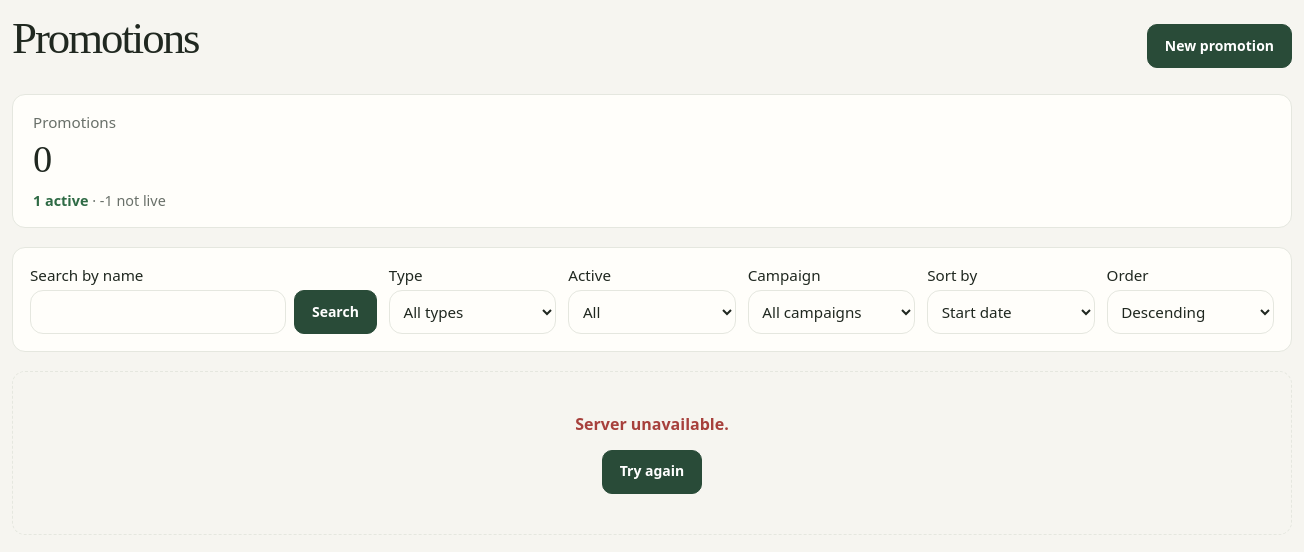
Test case: PromotionListPage › shows an error state with retry
Check: the message shows "Server unavailable.", box left=575, top=413, right=729, bottom=435
Click the button "Try again": coordinates (652, 472) left=602, top=450, right=702, bottom=494
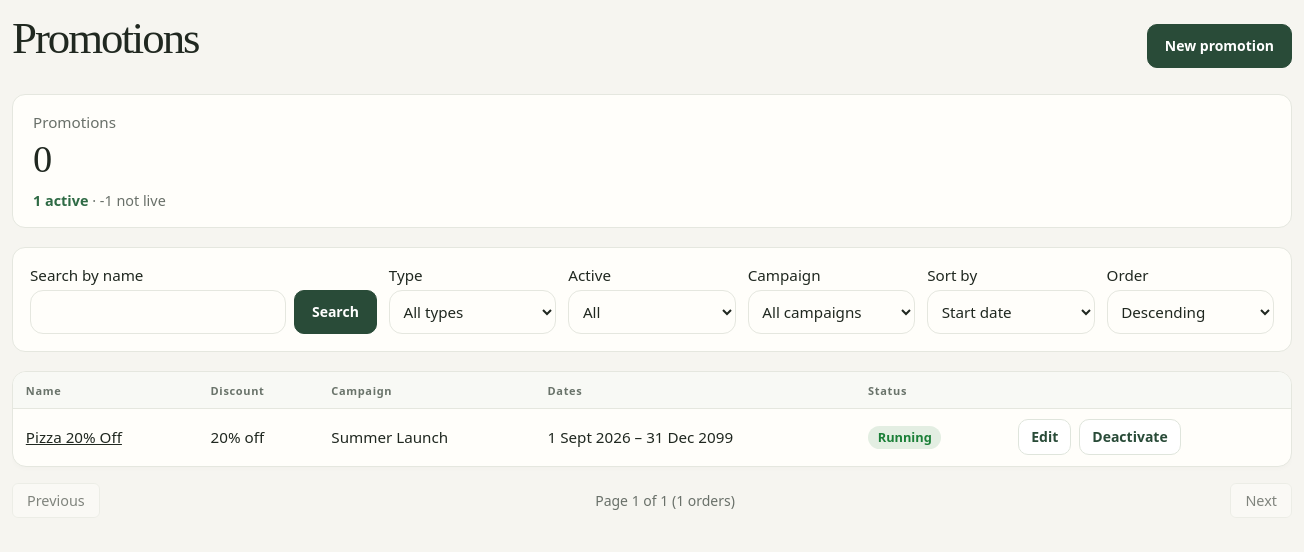
Check: the link "Pizza 20% Off" is shown, box left=26, top=427, right=122, bottom=447
